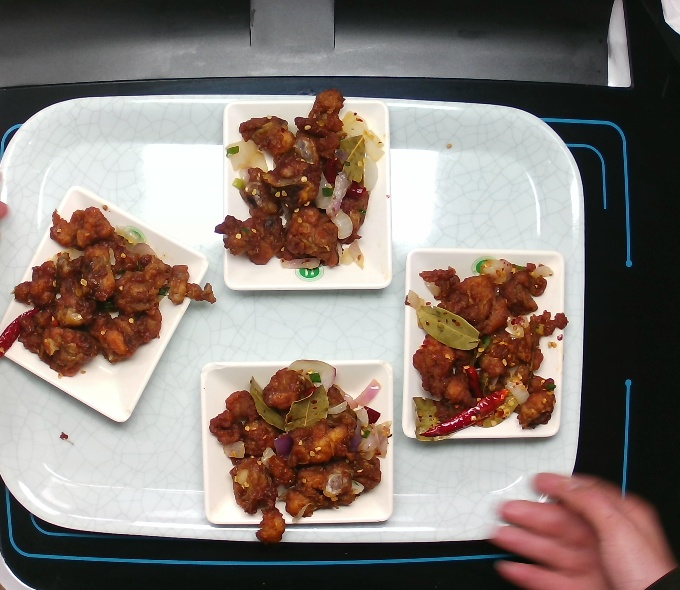wcq-LaZiJiKuai: (1, 203, 218, 379), (210, 356, 390, 551), (214, 85, 388, 273), (400, 256, 569, 441)
